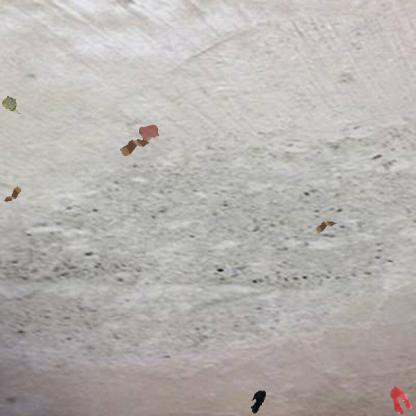dirty: (118, 136, 150, 158), (246, 389, 268, 415), (0, 94, 21, 114), (313, 219, 337, 235), (2, 185, 23, 202)
liquid: (389, 386, 415, 416), (138, 124, 160, 142)
